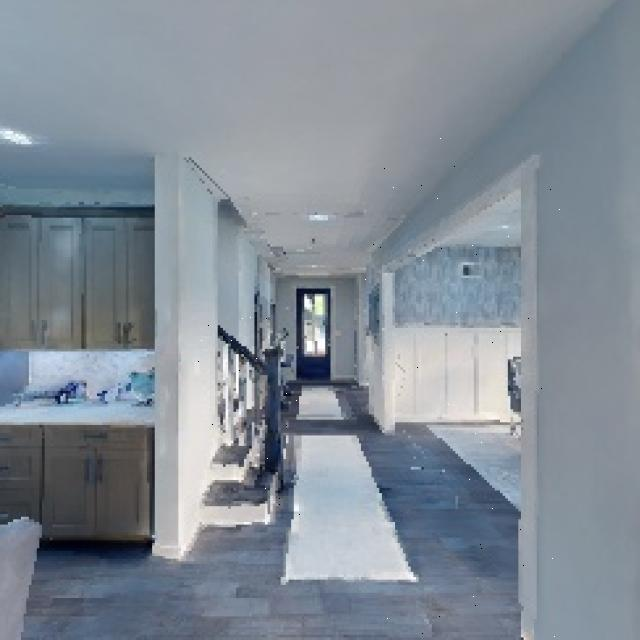door-frame: (359, 136, 562, 640)
stairs: (194, 307, 304, 534)
